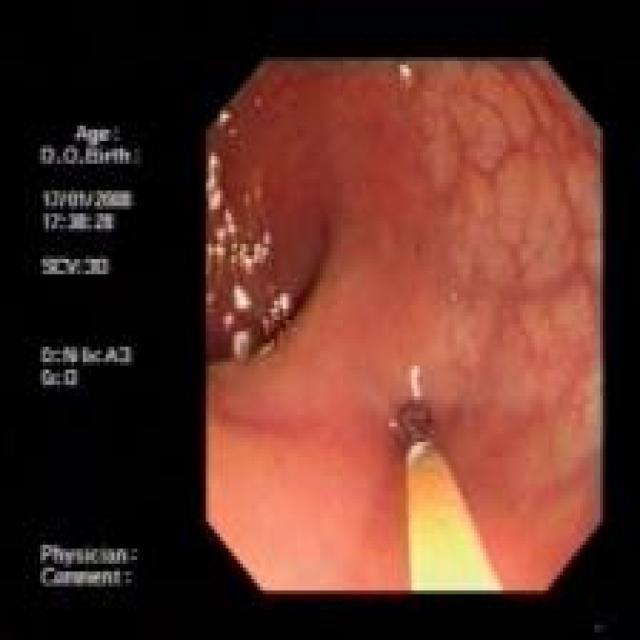color misalignment: (34, 116, 153, 590)
instrument: (388, 394, 504, 590)
saturation: (408, 511, 502, 590)
specularity: (205, 208, 272, 279), (218, 280, 255, 356), (262, 291, 295, 333), (203, 152, 225, 207), (406, 438, 429, 458), (397, 61, 413, 82), (218, 108, 232, 131)
